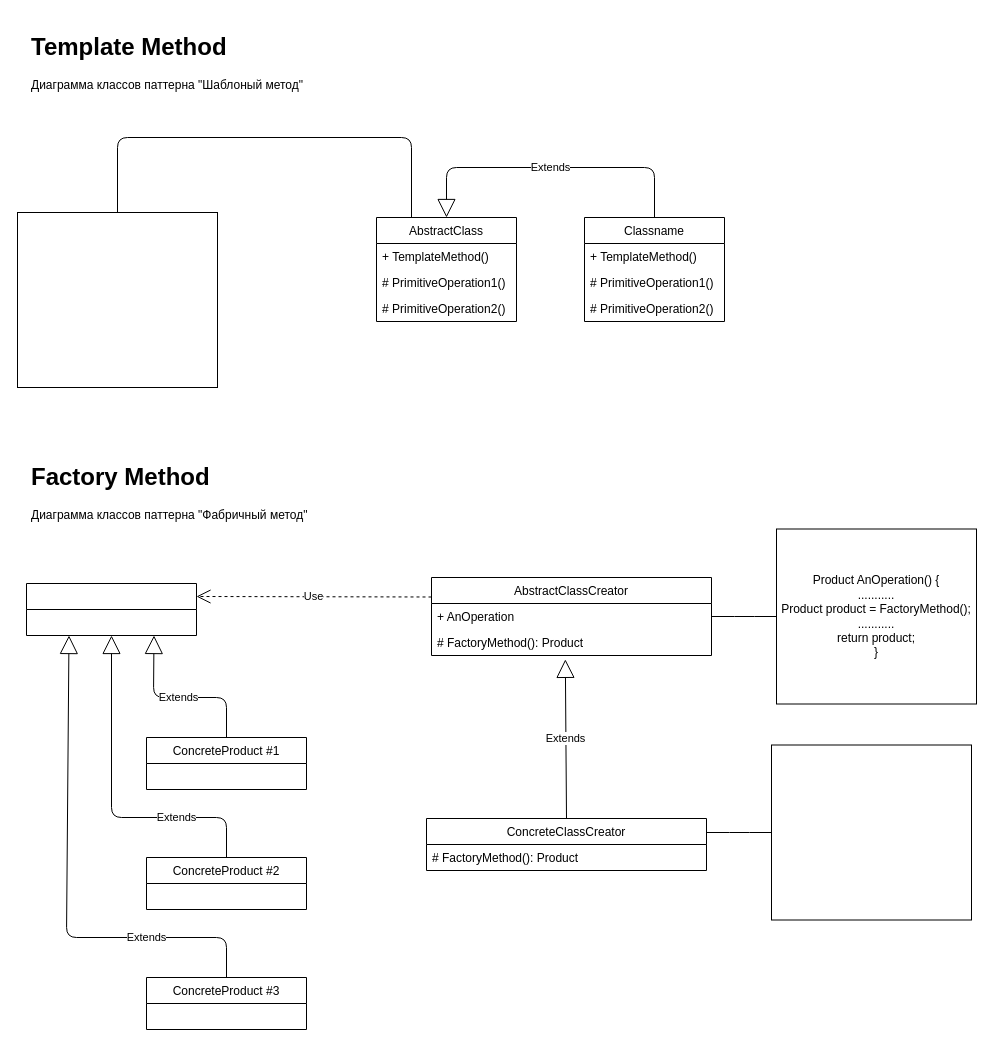
Some shapes in this 994 by 1047 pixel diagram are drawn without their labels. The centre of each missing label's shape, as x and y in pixels:
"Product" goes at (x=111, y=609).
"return ConcreteProduct();" goes at (x=871, y=832).
"void TemplateMethod() { PrimitiveOperation(); PrimitiveOperation(); }" goes at (x=117, y=300).
